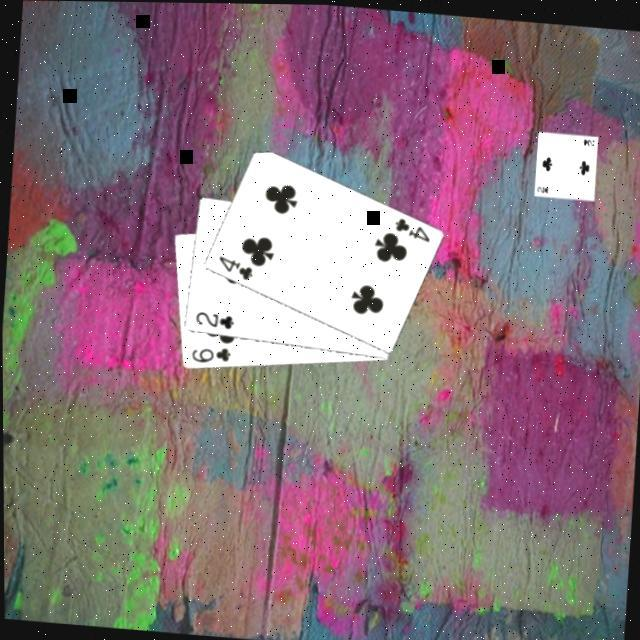2C: (192, 306, 237, 332)
4C: (390, 212, 434, 244), (213, 250, 256, 282)
6C: (188, 341, 232, 366)
